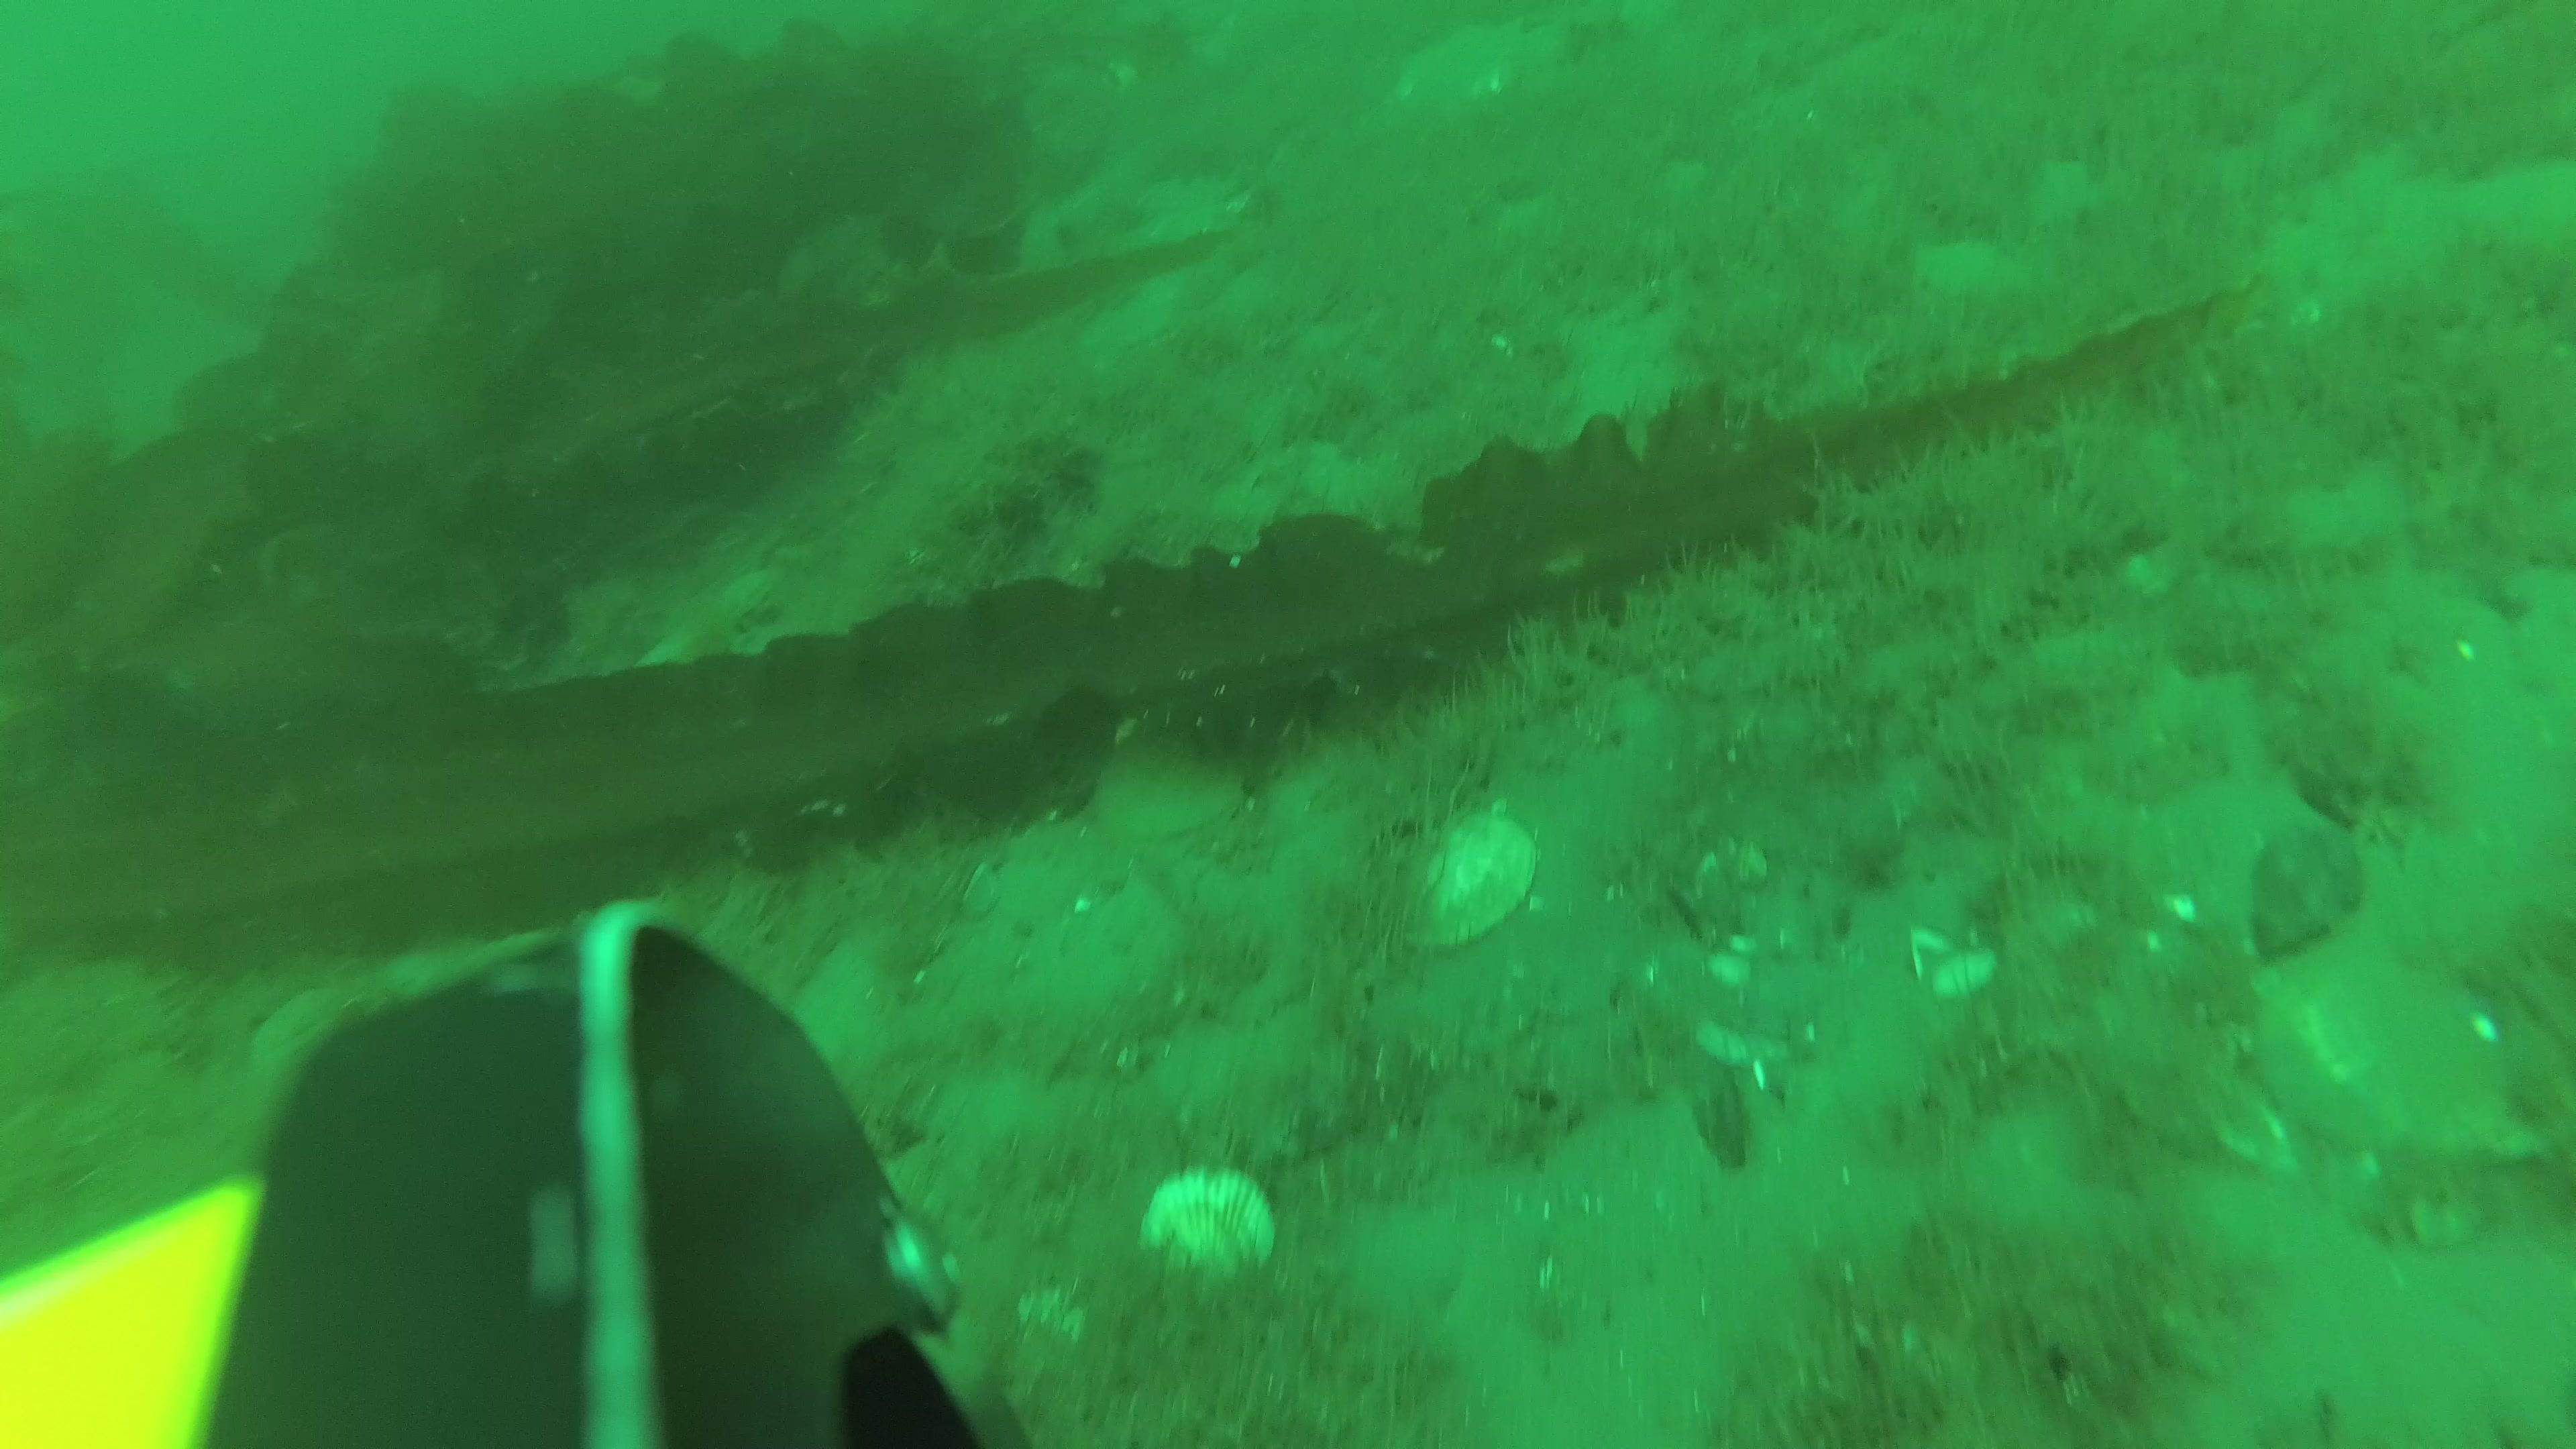scallop: (2250, 959, 2534, 1155), (1389, 812, 1537, 945), (1088, 738, 1244, 851), (1138, 1164, 1279, 1263)
